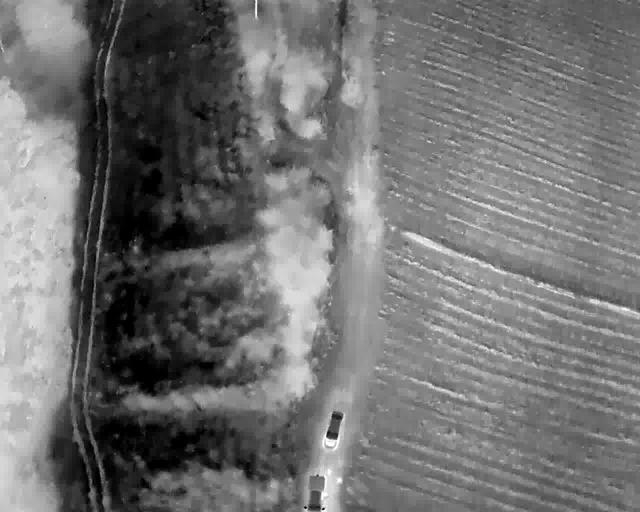car: (306, 474, 324, 511), (325, 410, 340, 450)
person: (335, 476, 343, 484), (326, 468, 332, 476)
